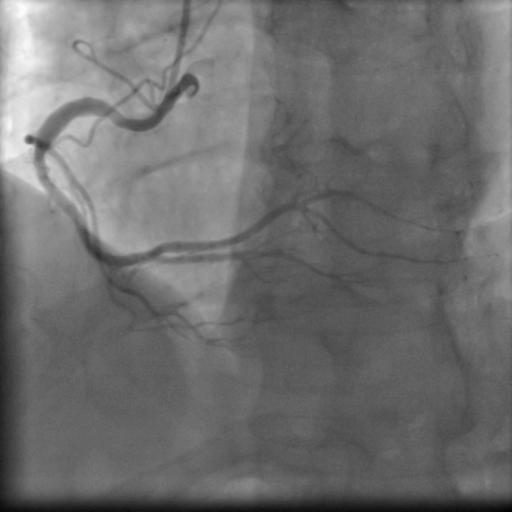Stenosis: (30, 152, 49, 176)
